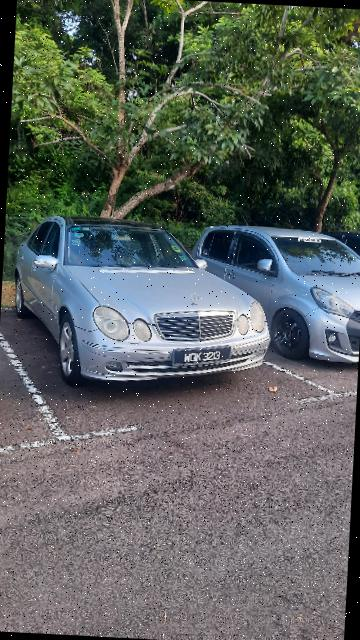License_Plate: (171, 342, 240, 373)
car: (10, 212, 281, 394)
